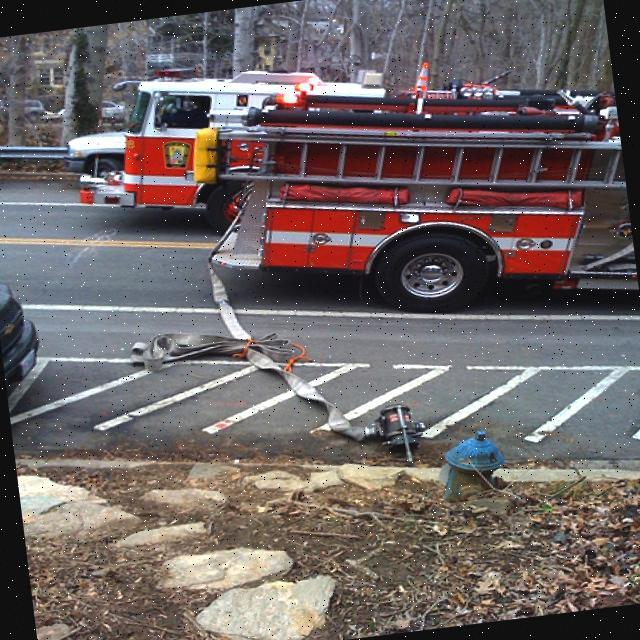fire_hydrant: (435, 428, 508, 502)
